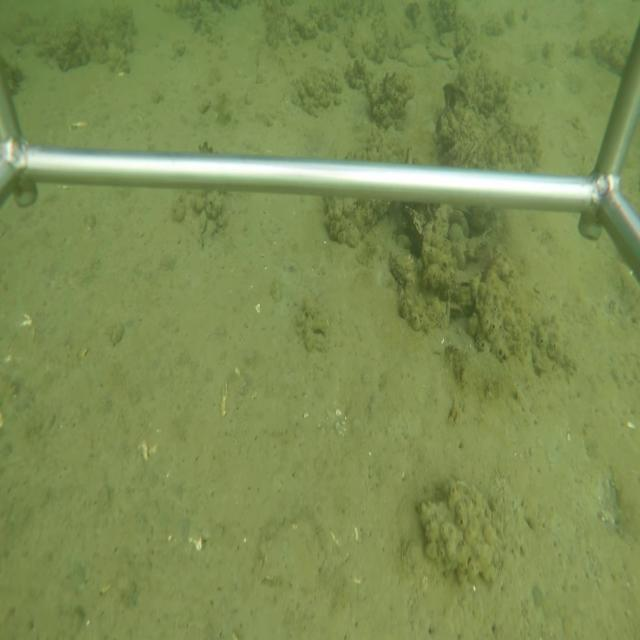Oyster-Closed: (386, 247, 419, 276), (469, 223, 493, 255)
Oyster-Indeterminate: (197, 208, 208, 245)
